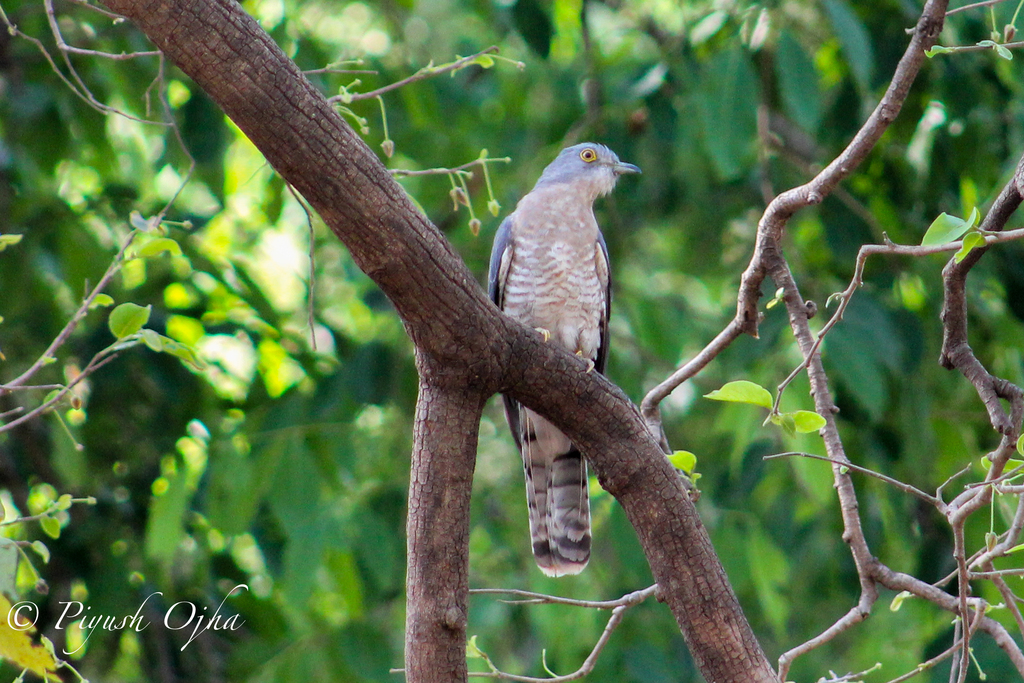Animal: (483, 141, 638, 578)
